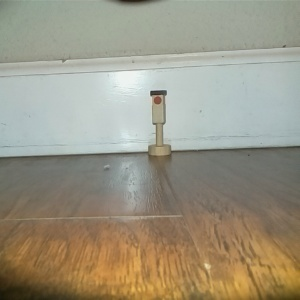traffic light red: (146, 87, 172, 158)
